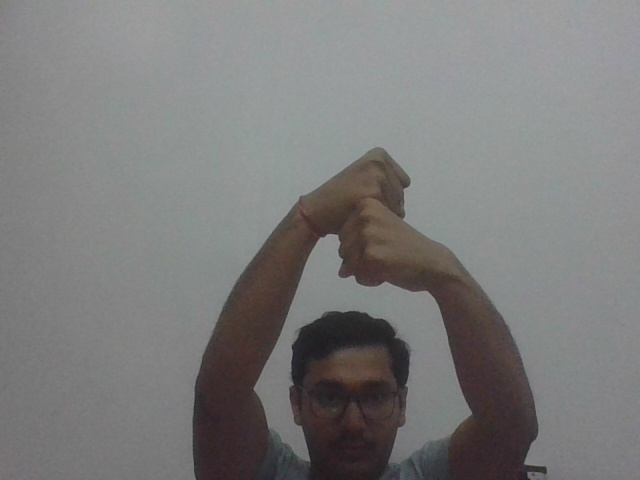G: (326, 142, 431, 295)
